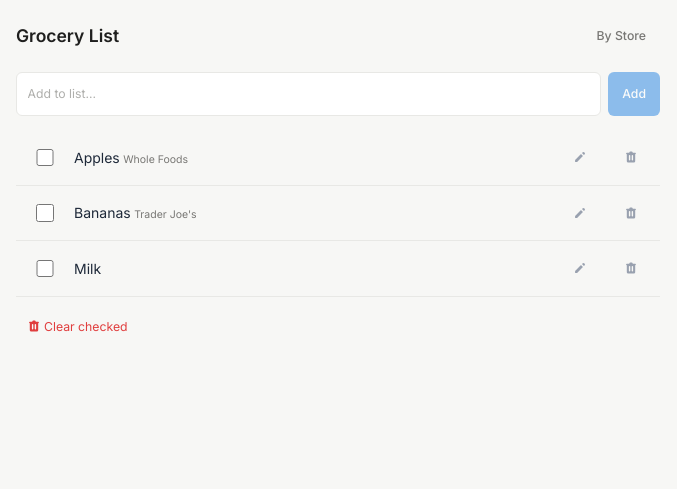
Test: GroceryListView.vue › By Store mode › "No store" group appears last
Click the button with test id "group-toggle-btn".
click(621, 36)  # box [583,14,660,58]
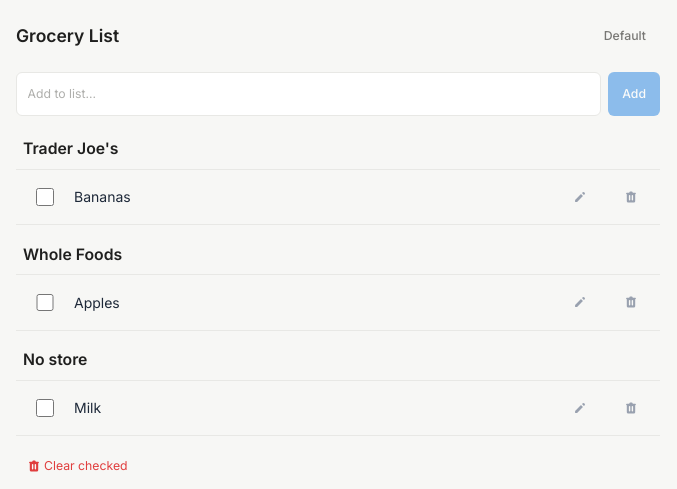
Now the text with test id "store-group-header" reads "No store", box [23,350,87,369]
